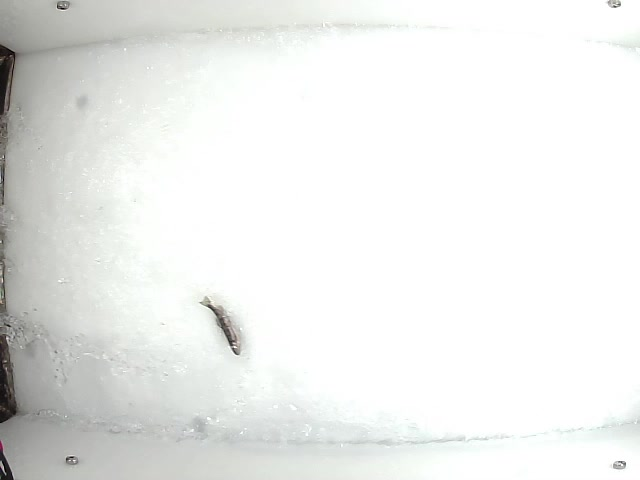fish: (198, 296, 242, 357)
